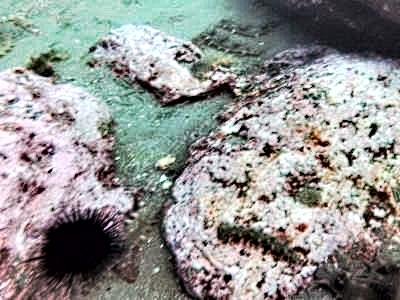urchin: (19, 202, 122, 295)
